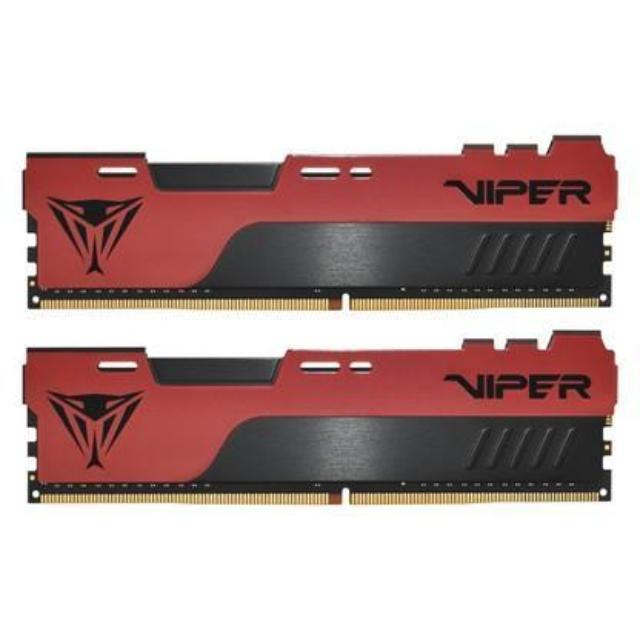RAM: (8, 331, 624, 517), (14, 137, 626, 320)
